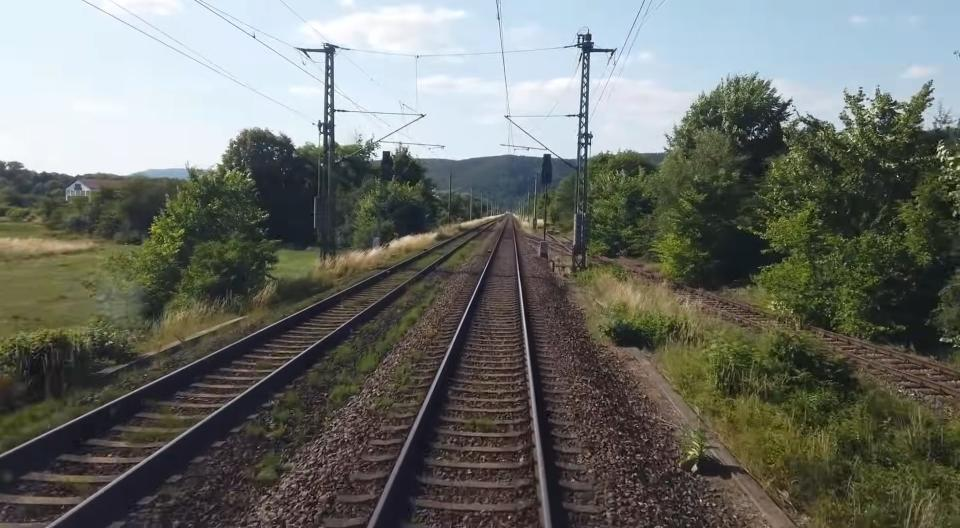Plant: (356, 273, 448, 374), (567, 277, 649, 350), (122, 403, 200, 453), (680, 407, 732, 478), (245, 393, 307, 442), (245, 454, 294, 486), (435, 240, 480, 269), (396, 350, 426, 393), (329, 374, 362, 409), (330, 337, 361, 366), (307, 363, 335, 386), (410, 253, 445, 270), (465, 418, 499, 435), (249, 359, 273, 372), (344, 298, 369, 308), (378, 397, 394, 408)
